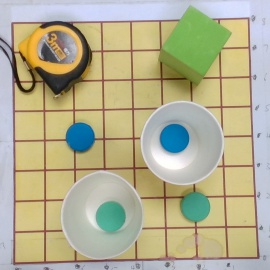blue: (65, 121, 95, 153), (181, 191, 211, 221)
cup_blue: (137, 100, 226, 188)
cup_green: (59, 170, 144, 259)
